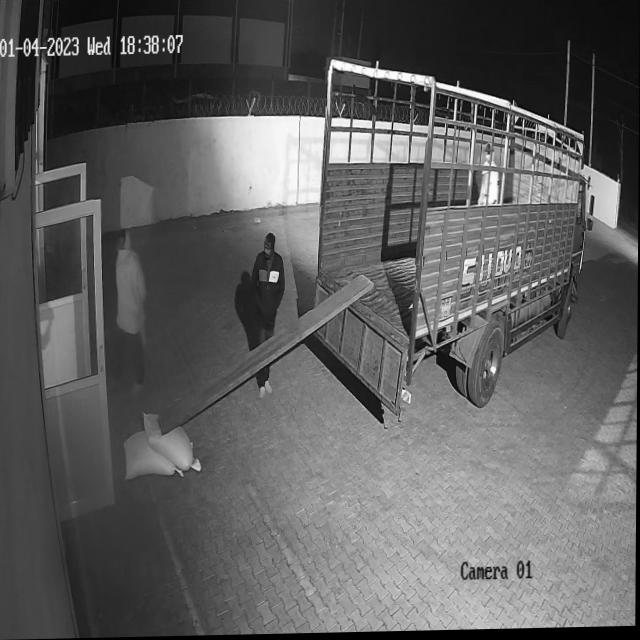sack: (142, 409, 202, 473), (124, 431, 183, 481)
